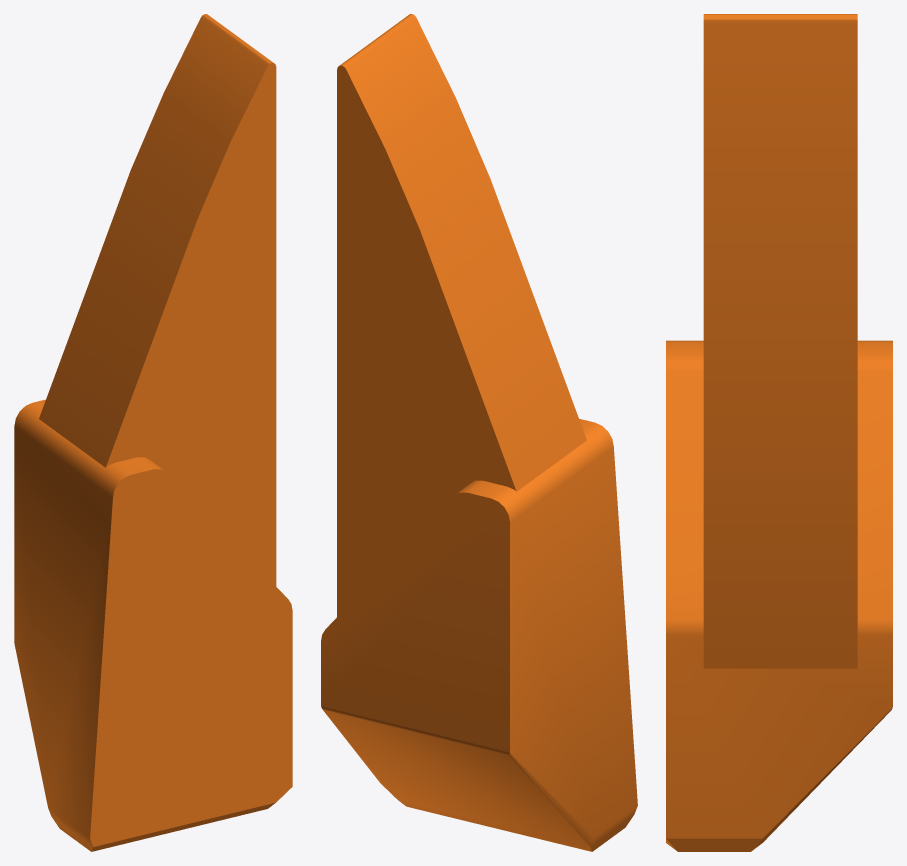
The picture shows the model from 3 angles, left to right: view 1: azimuth 30°, elevation 25°; view 2: azimuth 150°, elevation 25°; view 3: azimuth 270°, elevation 25°; orthographic projection. The views are drawn at different scales.
Visible parts, largest first — view 1: gripper_frame; view 2: gripper_frame; view 3: gripper_frame.
Part boxes in pixels (x1,y1,x2,y2): gripper_frame: [14, 14, 292, 851]; gripper_frame: [321, 14, 637, 851]; gripper_frame: [666, 14, 892, 851].
Size of the model in its own units: 0.0451 by 0.1563 by 0.038.
